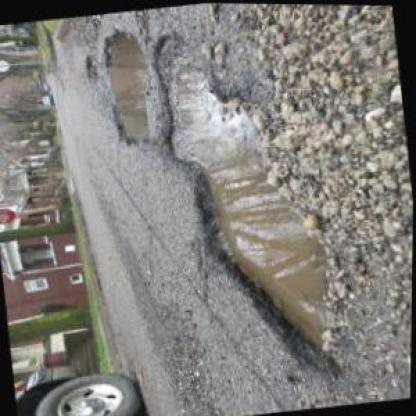pothole: (146, 11, 359, 390), (95, 24, 156, 147), (79, 51, 100, 80)
